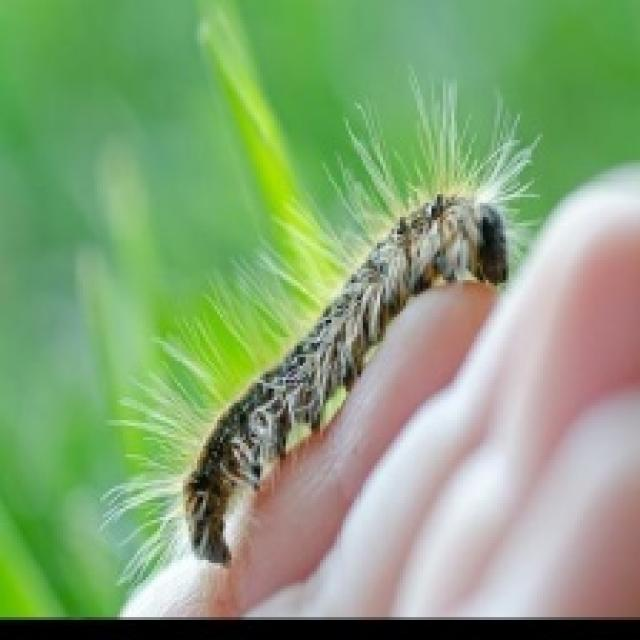armyworm: (89, 53, 524, 576)
